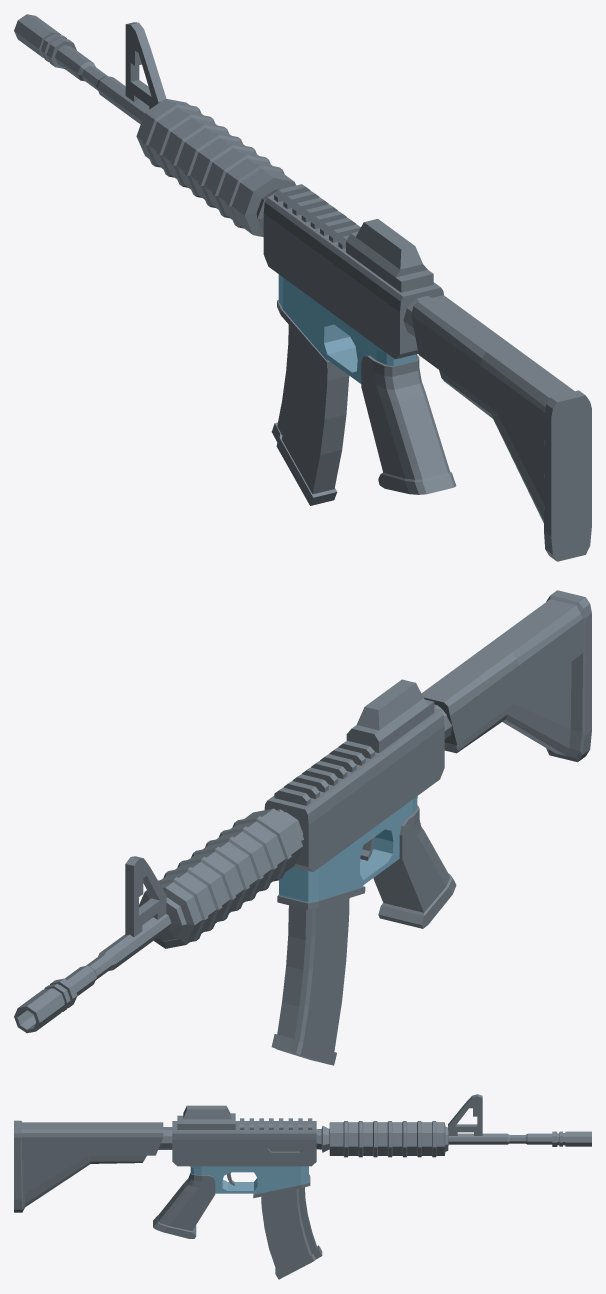
The model's file is steel.glb.
3 renders of one model, top to bottom at view 1: azimuth 30°, elevation 25°; view 2: azimuth 150°, elevation 25°; view 3: azimuth 270°, elevation 25°, orthographic. The views are drawn at different scales.
Parts seen in each view (by area): view 1: RIVALS-rifle; view 2: RIVALS-rifle; view 3: RIVALS-rifle.
Part boxes in pixels (x1,y1,x2,y2): RIVALS-rifle: (14, 14, 591, 561); RIVALS-rifle: (14, 590, 591, 1065); RIVALS-rifle: (14, 1094, 591, 1279).
Bounding box in the file's own units: 0.1776 × 0.918 × 2.65.
